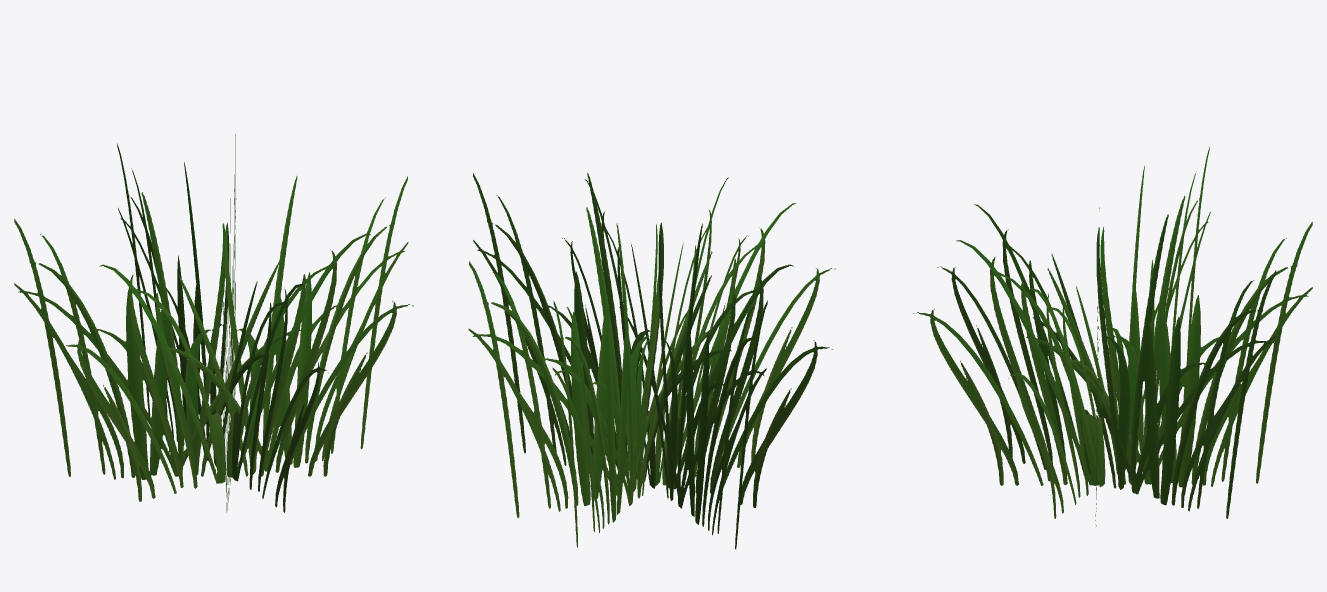
File: ARC0710050.fbx
3 renders of one model, left to right at view 1: azimuth 30°, elevation 25°; view 2: azimuth 150°, elevation 25°; view 3: azimuth 270°, elevation 25°, orthographic. The views are drawn at different scales.
Parts seen in each view (by area): view 1: smARC0710050; view 2: smARC0710050; view 3: smARC0710050.
Part boxes in pixels (box(x1,y1,x2,y2)): smARC0710050: box(14, 134, 413, 512); smARC0710050: box(468, 173, 835, 549); smARC0710050: box(913, 146, 1312, 526).
Size of the model in its own units: 48.77 by 48.77 by 48.77.
1 material, 1 textured.
